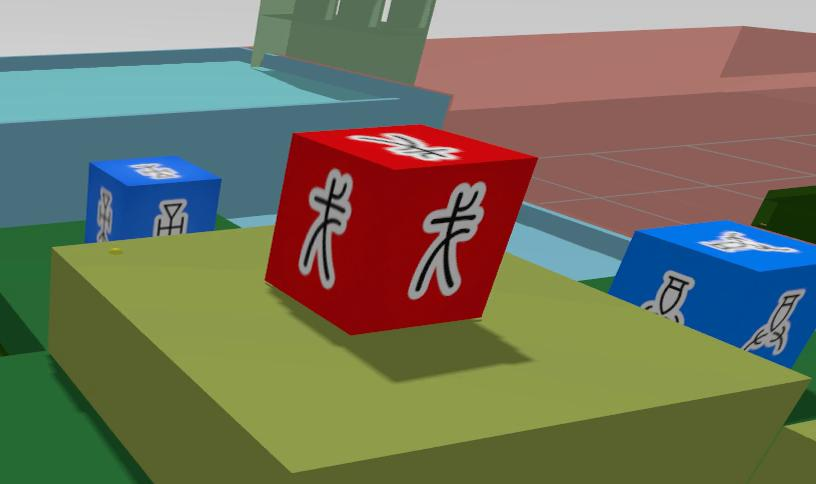KFS_FAKE: (265, 124, 536, 334), (409, 182, 486, 298), (299, 169, 352, 288), (348, 132, 460, 160)
KFS_REAL: (609, 221, 815, 367), (83, 156, 221, 242)
